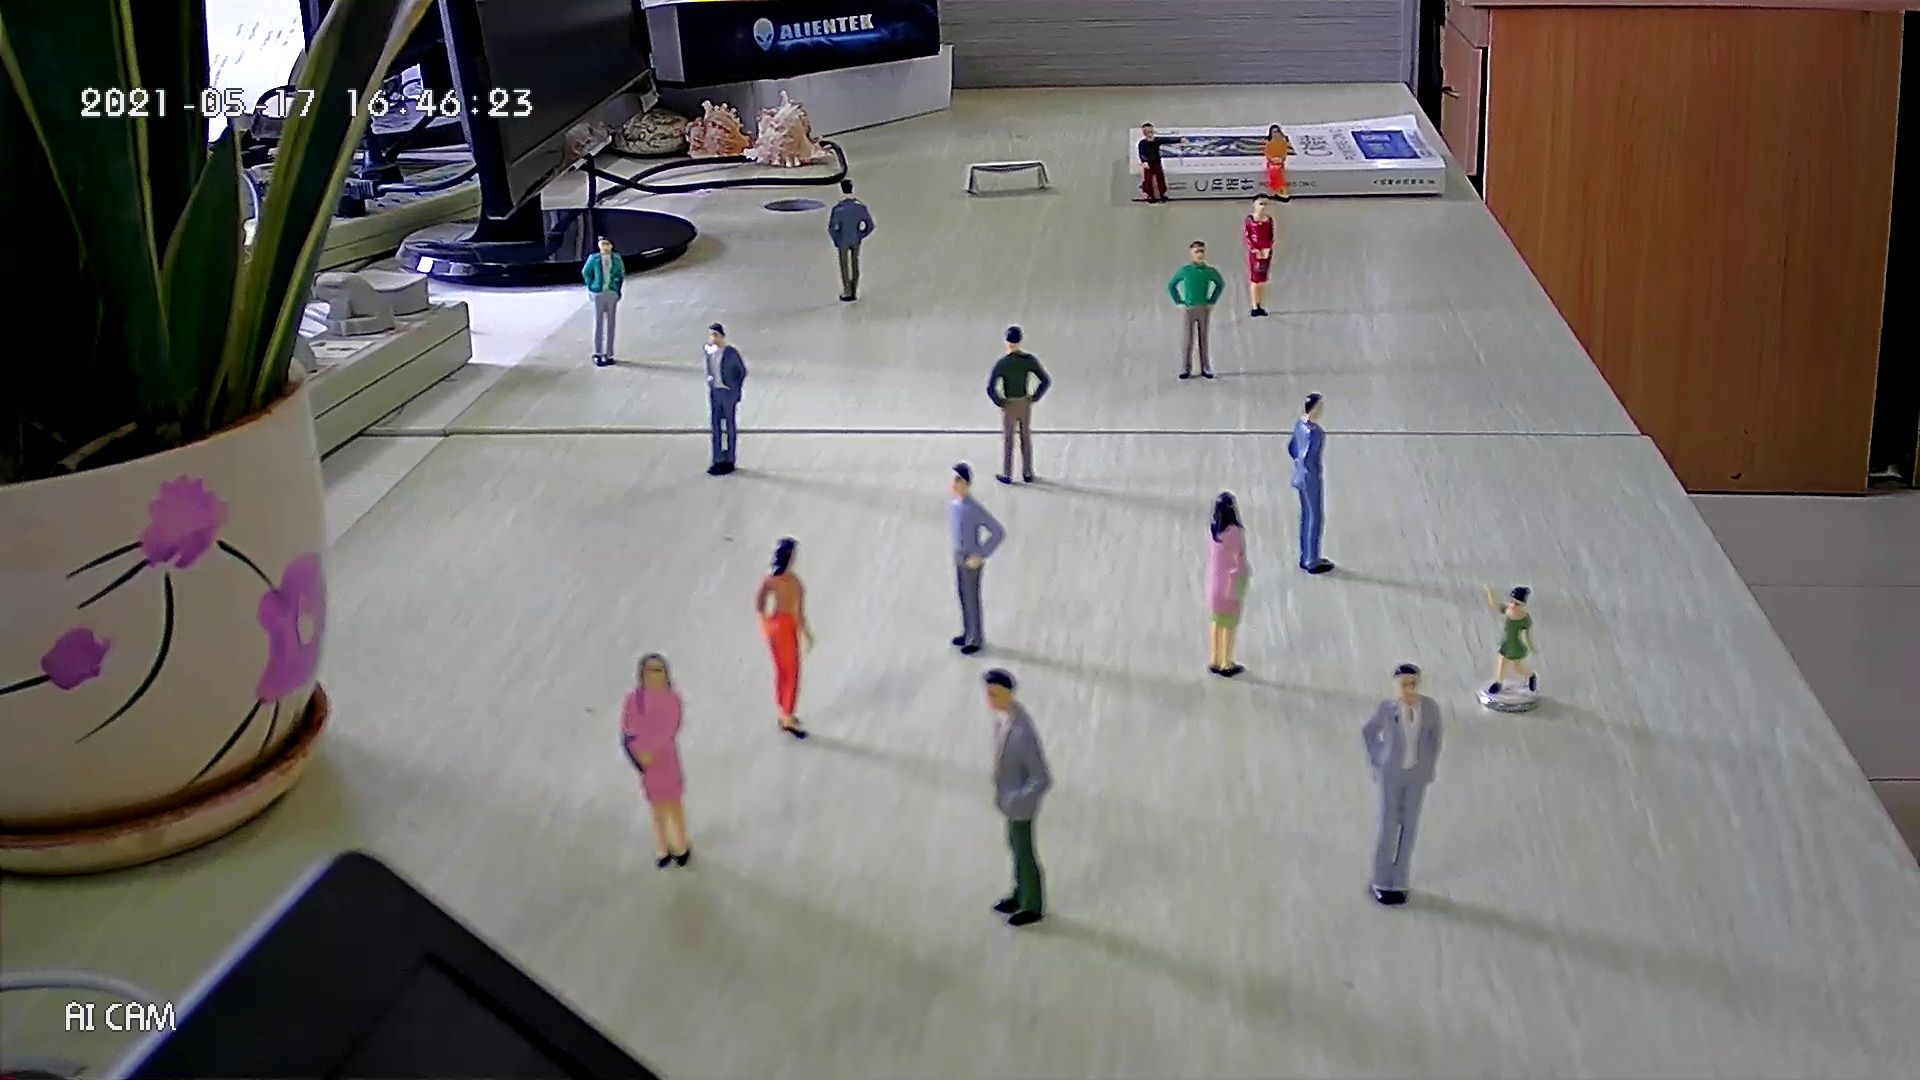person: (979, 666, 1061, 930), (1359, 660, 1447, 910), (615, 650, 697, 870), (749, 530, 821, 744), (943, 454, 1011, 658), (981, 322, 1055, 488), (1285, 390, 1341, 578), (1201, 488, 1257, 678), (1163, 236, 1227, 384), (1475, 574, 1545, 698), (699, 318, 751, 478), (823, 176, 879, 306), (581, 228, 629, 370), (1133, 116, 1193, 208), (1239, 190, 1279, 320), (1261, 118, 1299, 206)
